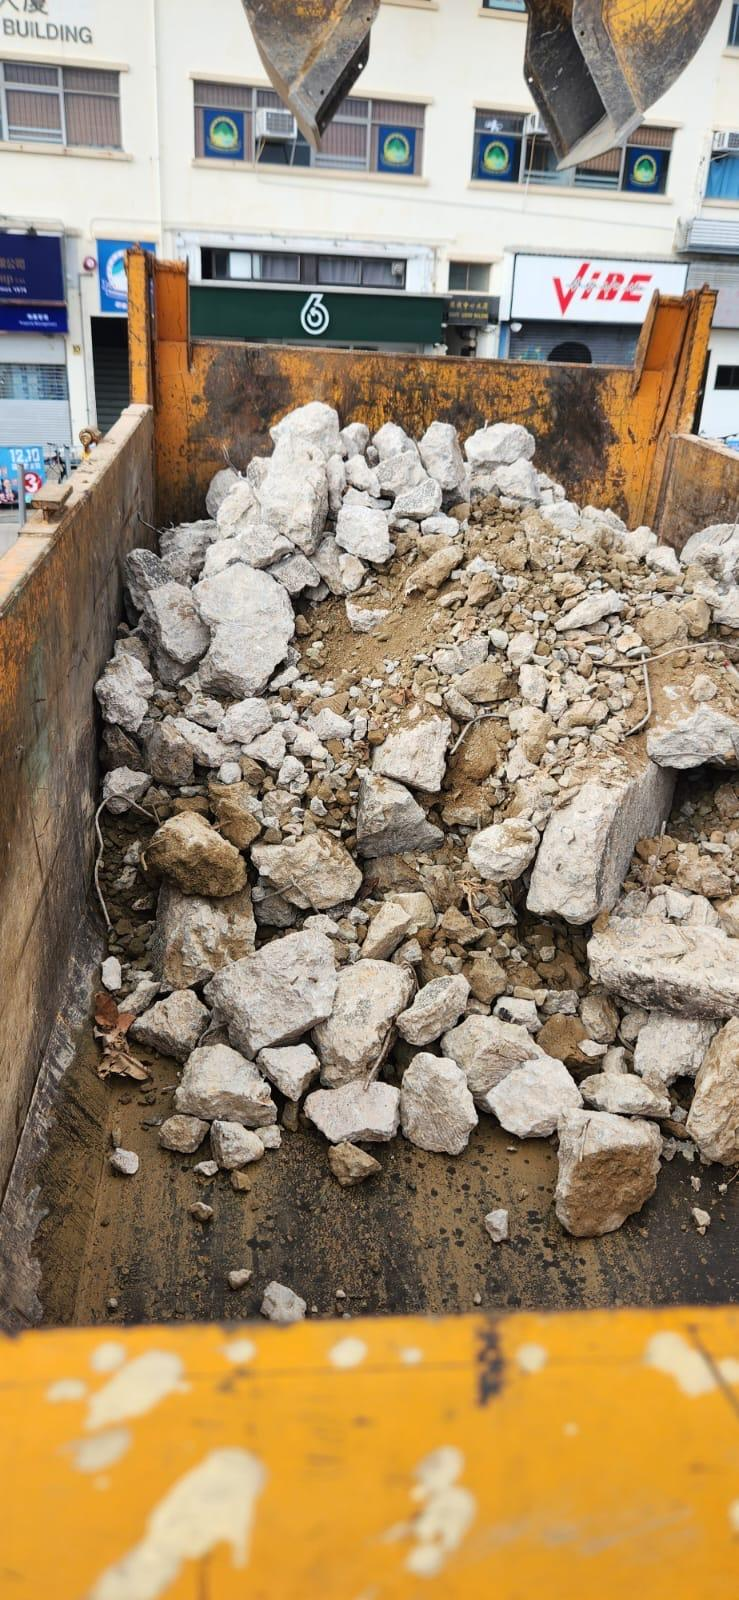stone: (92, 401, 737, 1241), (552, 1106, 663, 1237)
